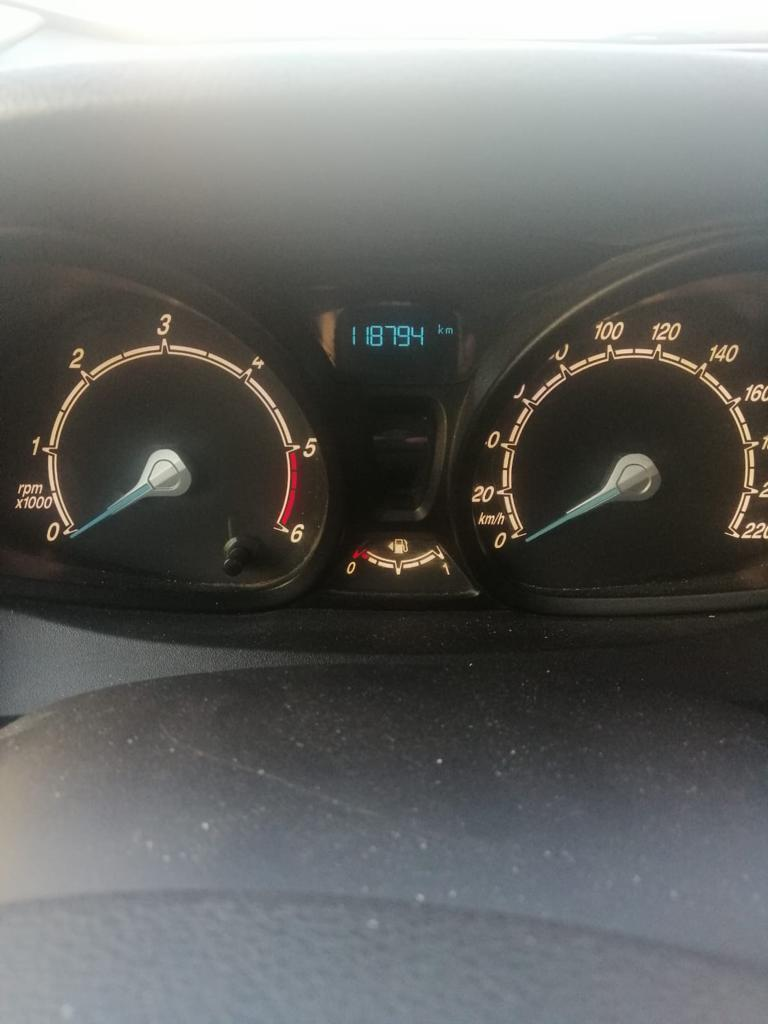1: (351, 325, 356, 346), (365, 326, 369, 344)
4: (410, 325, 424, 345)
7: (384, 325, 396, 345)
8: (369, 325, 382, 346)
9: (397, 325, 410, 347)
X: (437, 323, 444, 335), (445, 327, 453, 334)
odometer: (333, 301, 462, 377)
